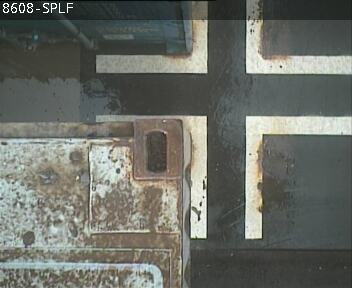groundmarker_1: (99, 113, 351, 239), (95, 1, 352, 72)
